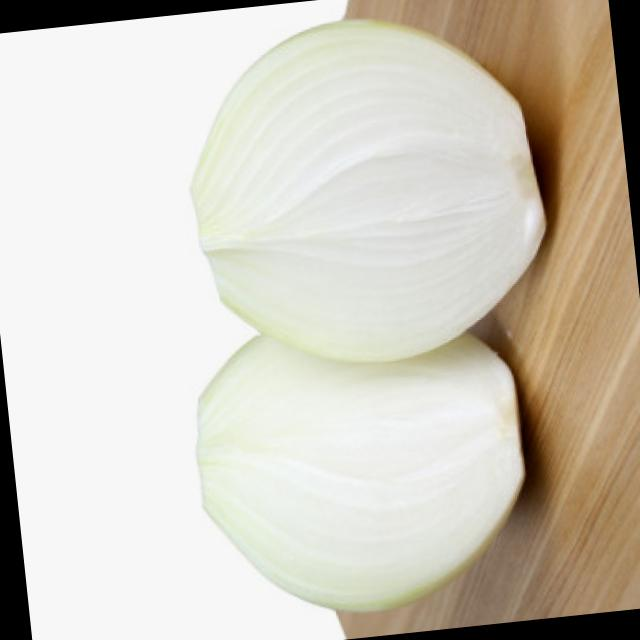onion: (146, 9, 558, 358), (178, 311, 544, 629)
